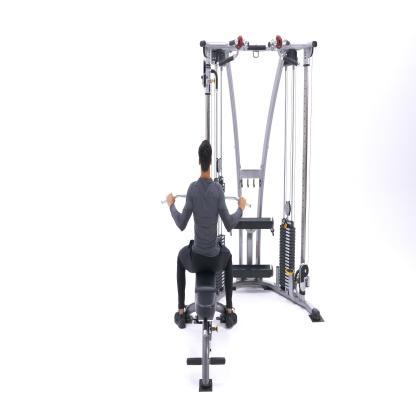Lat Pull Down: (163, 22, 330, 395)
